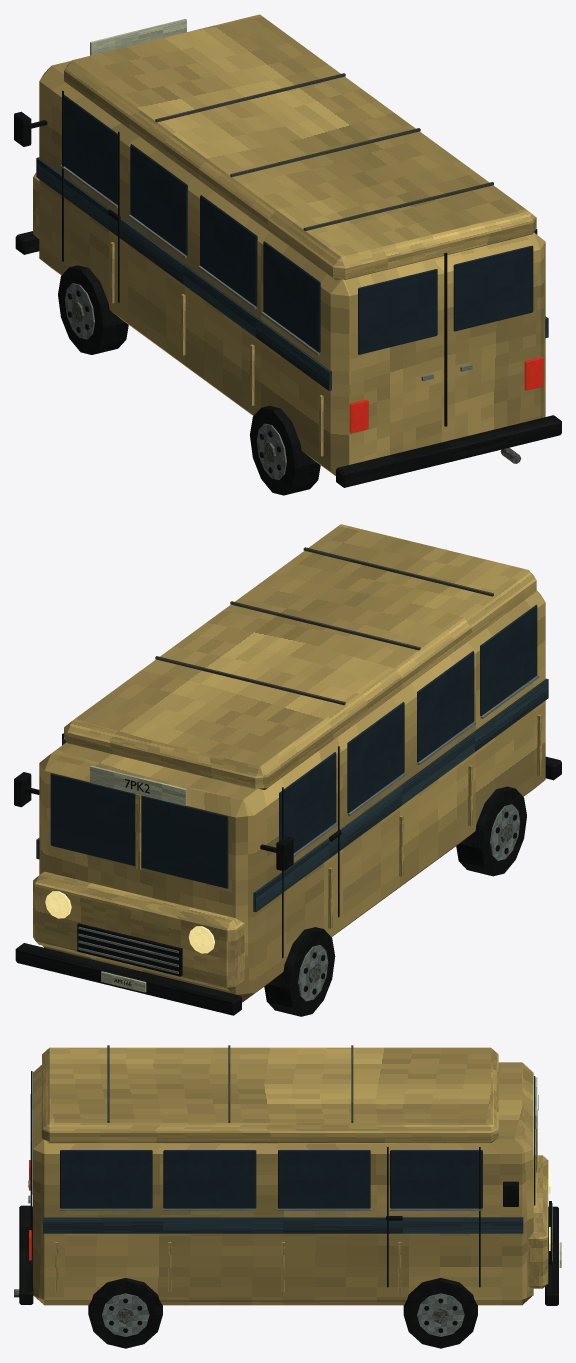
The model's file is minibus.glb.
The picture shows the model from 3 angles, top to bottom: view 1: azimuth 30°, elevation 25°; view 2: azimuth 150°, elevation 25°; view 3: azimuth 270°, elevation 25°; orthographic projection. The views are drawn at different scales.
Visible parts, largest first — view 1: Vehicle_Body, Glass_Mesh, Wheel_RL_Mesh, Wheel_FL_Mesh, Tail_Lights_Mesh; view 2: Vehicle_Body, Glass_Mesh, Wheel_RL_Mesh, Wheel_FL_Mesh, Grille_Mesh, Headlights_Mesh; view 3: Vehicle_Body, Glass_Mesh, Wheel_FR_Mesh, Wheel_RR_Mesh.
Part boxes in pixels (x1,y1,x2,y2): Vehicle_Body: (14, 14, 561, 487); Glass_Mesh: (64, 95, 537, 354); Wheel_RL_Mesh: (250, 405, 320, 495); Wheel_FL_Mesh: (58, 265, 128, 354); Tail_Lights_Mesh: (349, 357, 543, 433); Vehicle_Body: (14, 524, 561, 1015); Glass_Mesh: (50, 604, 537, 888); Wheel_RL_Mesh: (456, 786, 526, 876); Wheel_FL_Mesh: (264, 927, 335, 1016); Grille_Mesh: (77, 923, 182, 976); Headlights_Mesh: (45, 891, 214, 953); Vehicle_Body: (19, 1045, 558, 1305); Glass_Mesh: (31, 1071, 535, 1208); Wheel_FR_Mesh: (403, 1278, 477, 1348); Wheel_RR_Mesh: (88, 1278, 162, 1348).
Bounding box in the file's own units: 2.38 × 2.24 × 5.08.
11 materials, 11 textured.
